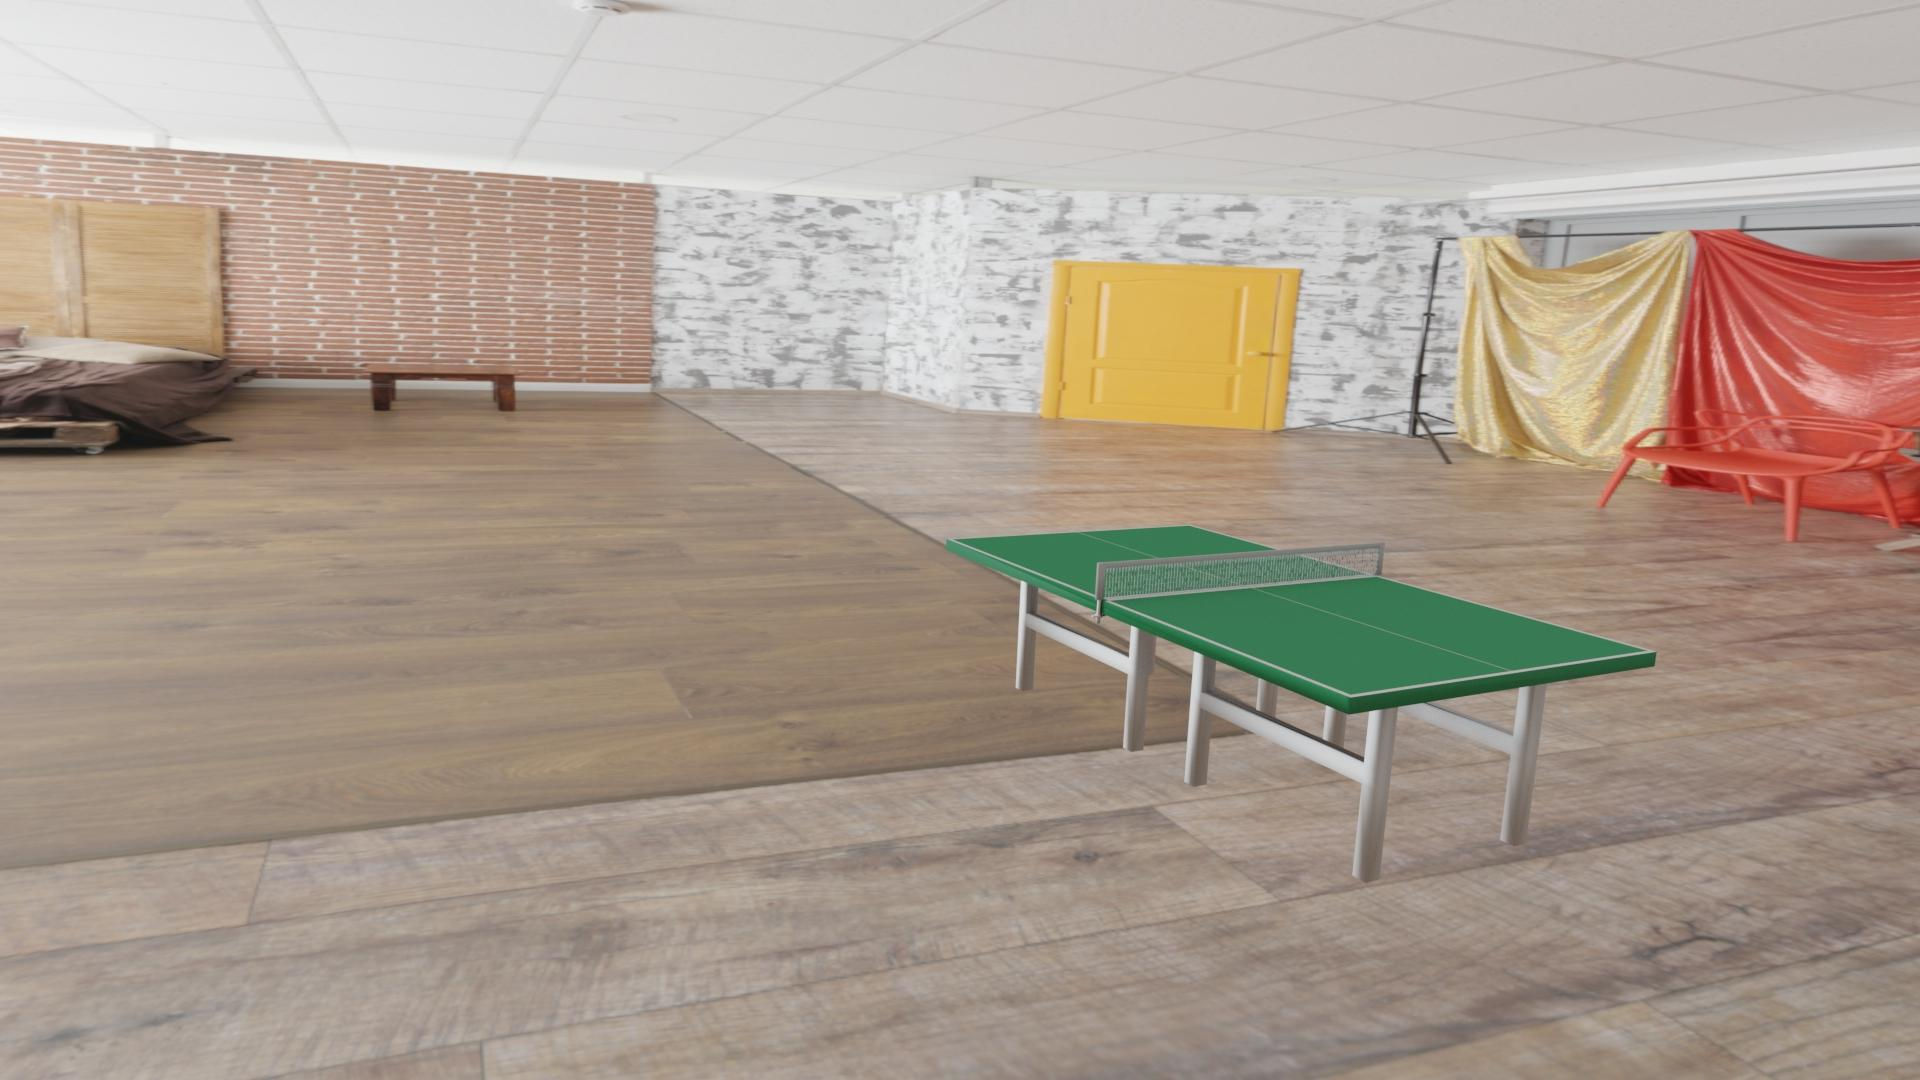table: (952, 525, 1648, 695)
